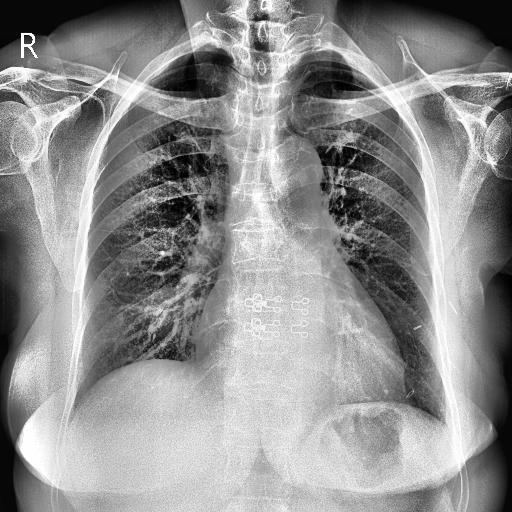0- Aortic enlargement: (264, 133, 326, 210)
3- Cardiomegaly: (194, 300, 404, 404), (197, 312, 408, 406), (194, 324, 406, 411)
